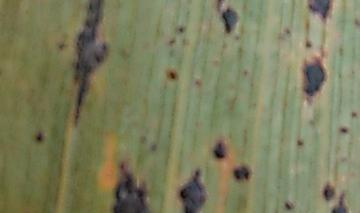tarspot: (72, 1, 109, 125), (114, 161, 147, 213), (179, 168, 207, 213), (302, 57, 326, 98), (221, 6, 240, 34), (306, 1, 331, 20), (232, 164, 251, 181), (333, 193, 349, 213), (213, 142, 227, 160), (324, 184, 335, 200), (34, 130, 44, 143), (57, 40, 67, 51), (167, 70, 177, 79), (175, 24, 185, 33), (166, 37, 175, 47), (216, 1, 225, 11), (285, 201, 293, 210), (304, 40, 312, 49), (283, 26, 291, 35), (296, 139, 304, 147), (354, 18, 360, 28), (193, 79, 201, 86), (151, 143, 157, 152), (243, 70, 249, 77), (351, 112, 356, 120), (340, 128, 347, 133)
